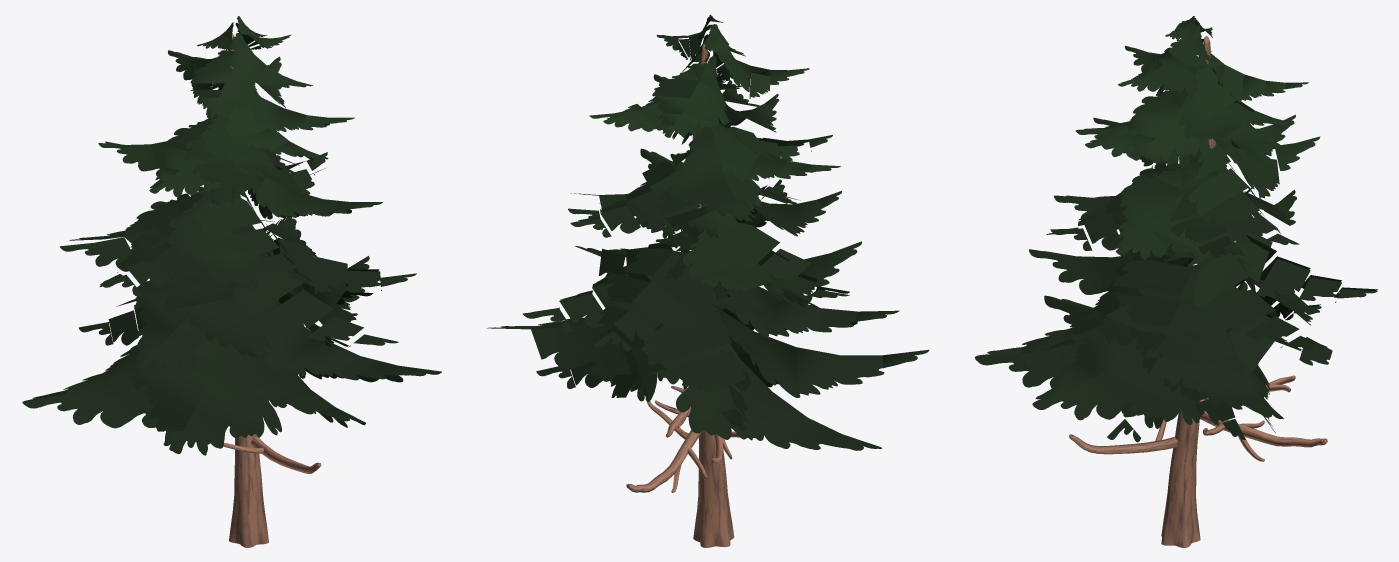
Rendered from pinheiro-andares.glb.
The picture shows the model from 3 angles, left to right: view 1: azimuth 30°, elevation 25°; view 2: azimuth 150°, elevation 25°; view 3: azimuth 270°, elevation 25°; orthographic projection. The views are drawn at different scales.
Size of the model in its own units: 5.67 by 7.41 by 5.37.
6 materials, 6 textured.
